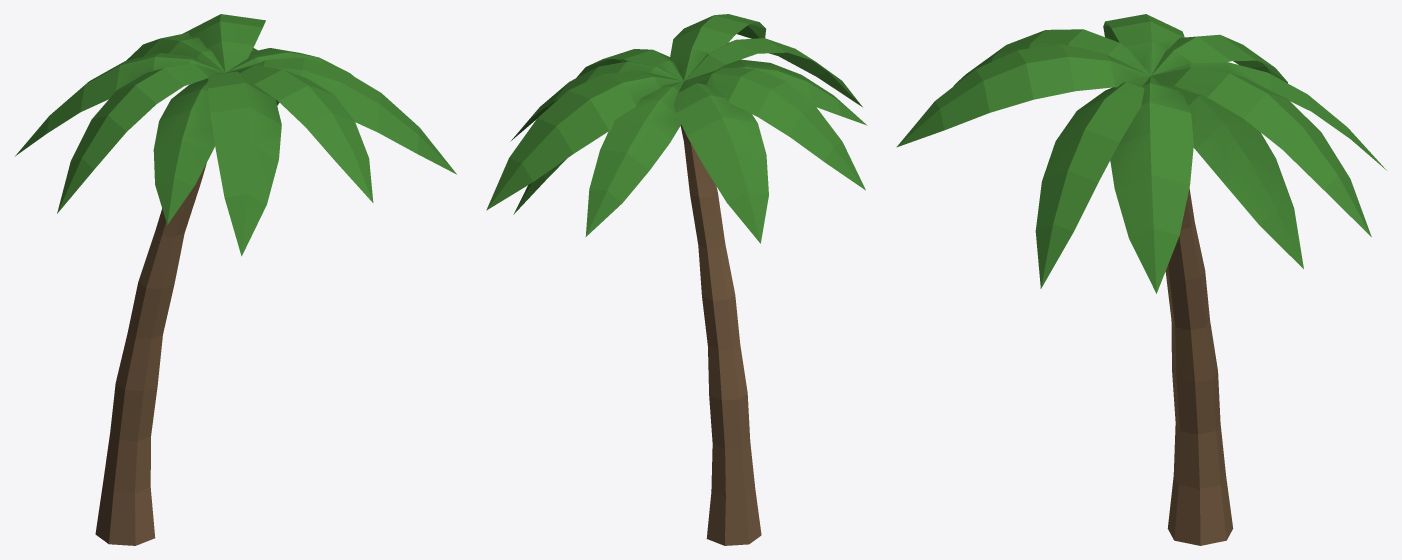
The model's file is Palm1.fbx.
The picture shows the model from 3 angles, left to right: view 1: azimuth 30°, elevation 25°; view 2: azimuth 150°, elevation 25°; view 3: azimuth 270°, elevation 25°; orthographic projection. The views are drawn at different scales.
Visible parts, largest first — view 1: Palm1; view 2: Palm1; view 3: Palm1.
Part boxes in pixels (bbox=[...]): Palm1: bbox=[15, 14, 456, 545]; Palm1: bbox=[486, 14, 867, 545]; Palm1: bbox=[896, 14, 1386, 545].
Size of the model in its own units: 6.35 by 7.94 by 6.74.
